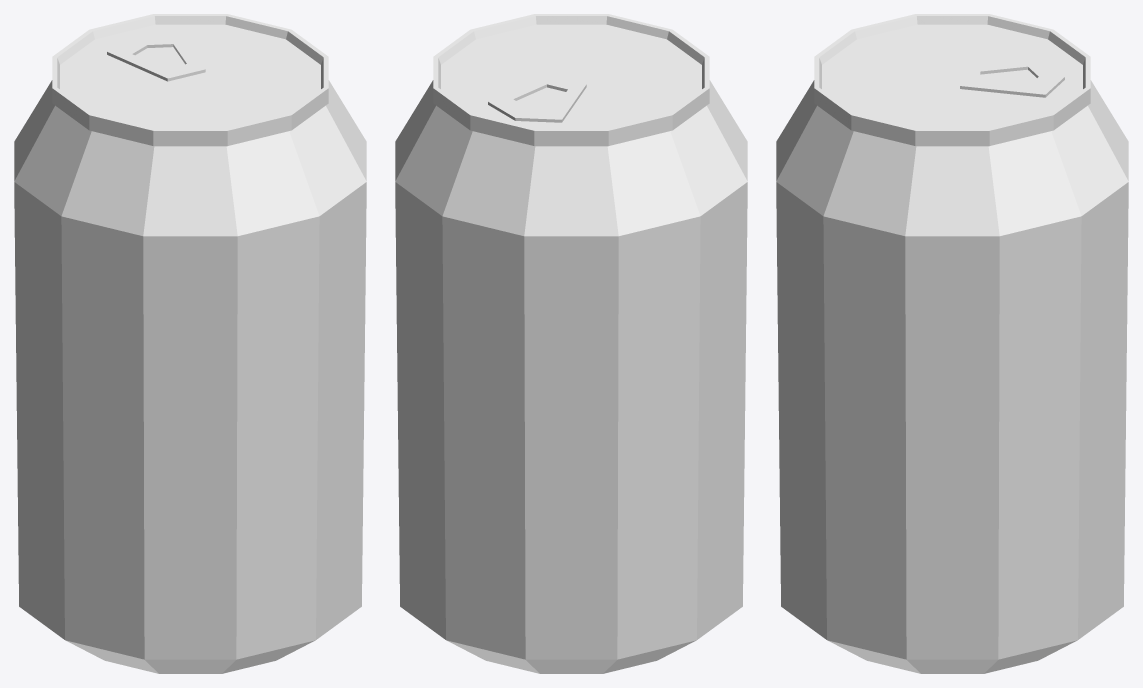
Rendered from Prop_Can_02.glb.
The picture shows the model from 3 angles, left to right: view 1: azimuth 30°, elevation 25°; view 2: azimuth 150°, elevation 25°; view 3: azimuth 270°, elevation 25°; orthographic projection.
Visible parts, largest first — view 1: Prop_Can_02; view 2: Prop_Can_02; view 3: Prop_Can_02.
Part boxes in pixels (box(x1,y1,x2,y2)): Prop_Can_02: box(14, 14, 366, 673); Prop_Can_02: box(395, 14, 747, 673); Prop_Can_02: box(776, 14, 1128, 673).
Size of the model in its own units: 0.11 by 0.19 by 0.11.
1 material, 1 textured.
